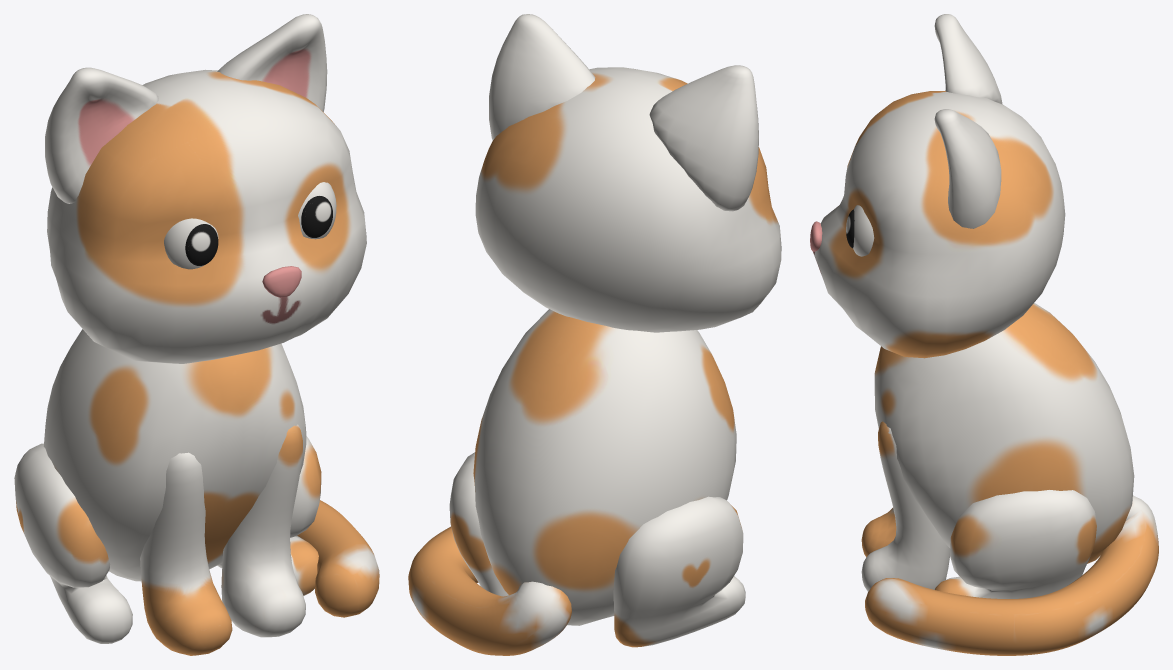
File: Gatito_Final.glb
The picture shows the model from 3 angles, left to right: view 1: azimuth 30°, elevation 25°; view 2: azimuth 150°, elevation 25°; view 3: azimuth 270°, elevation 25°; orthographic projection. The views are drawn at different scales.
Parts seen in each view (by area): view 1: Roundcube.001; view 2: Roundcube.001; view 3: Roundcube.001.
Part boxes in pixels (x1,y1,x2,y2): Roundcube.001: [14, 14, 379, 655]; Roundcube.001: [408, 14, 781, 655]; Roundcube.001: [810, 14, 1158, 655].
Bounding box in the file's own units: 0.4182 × 0.731 × 0.4432.
1 material, 1 textured.
